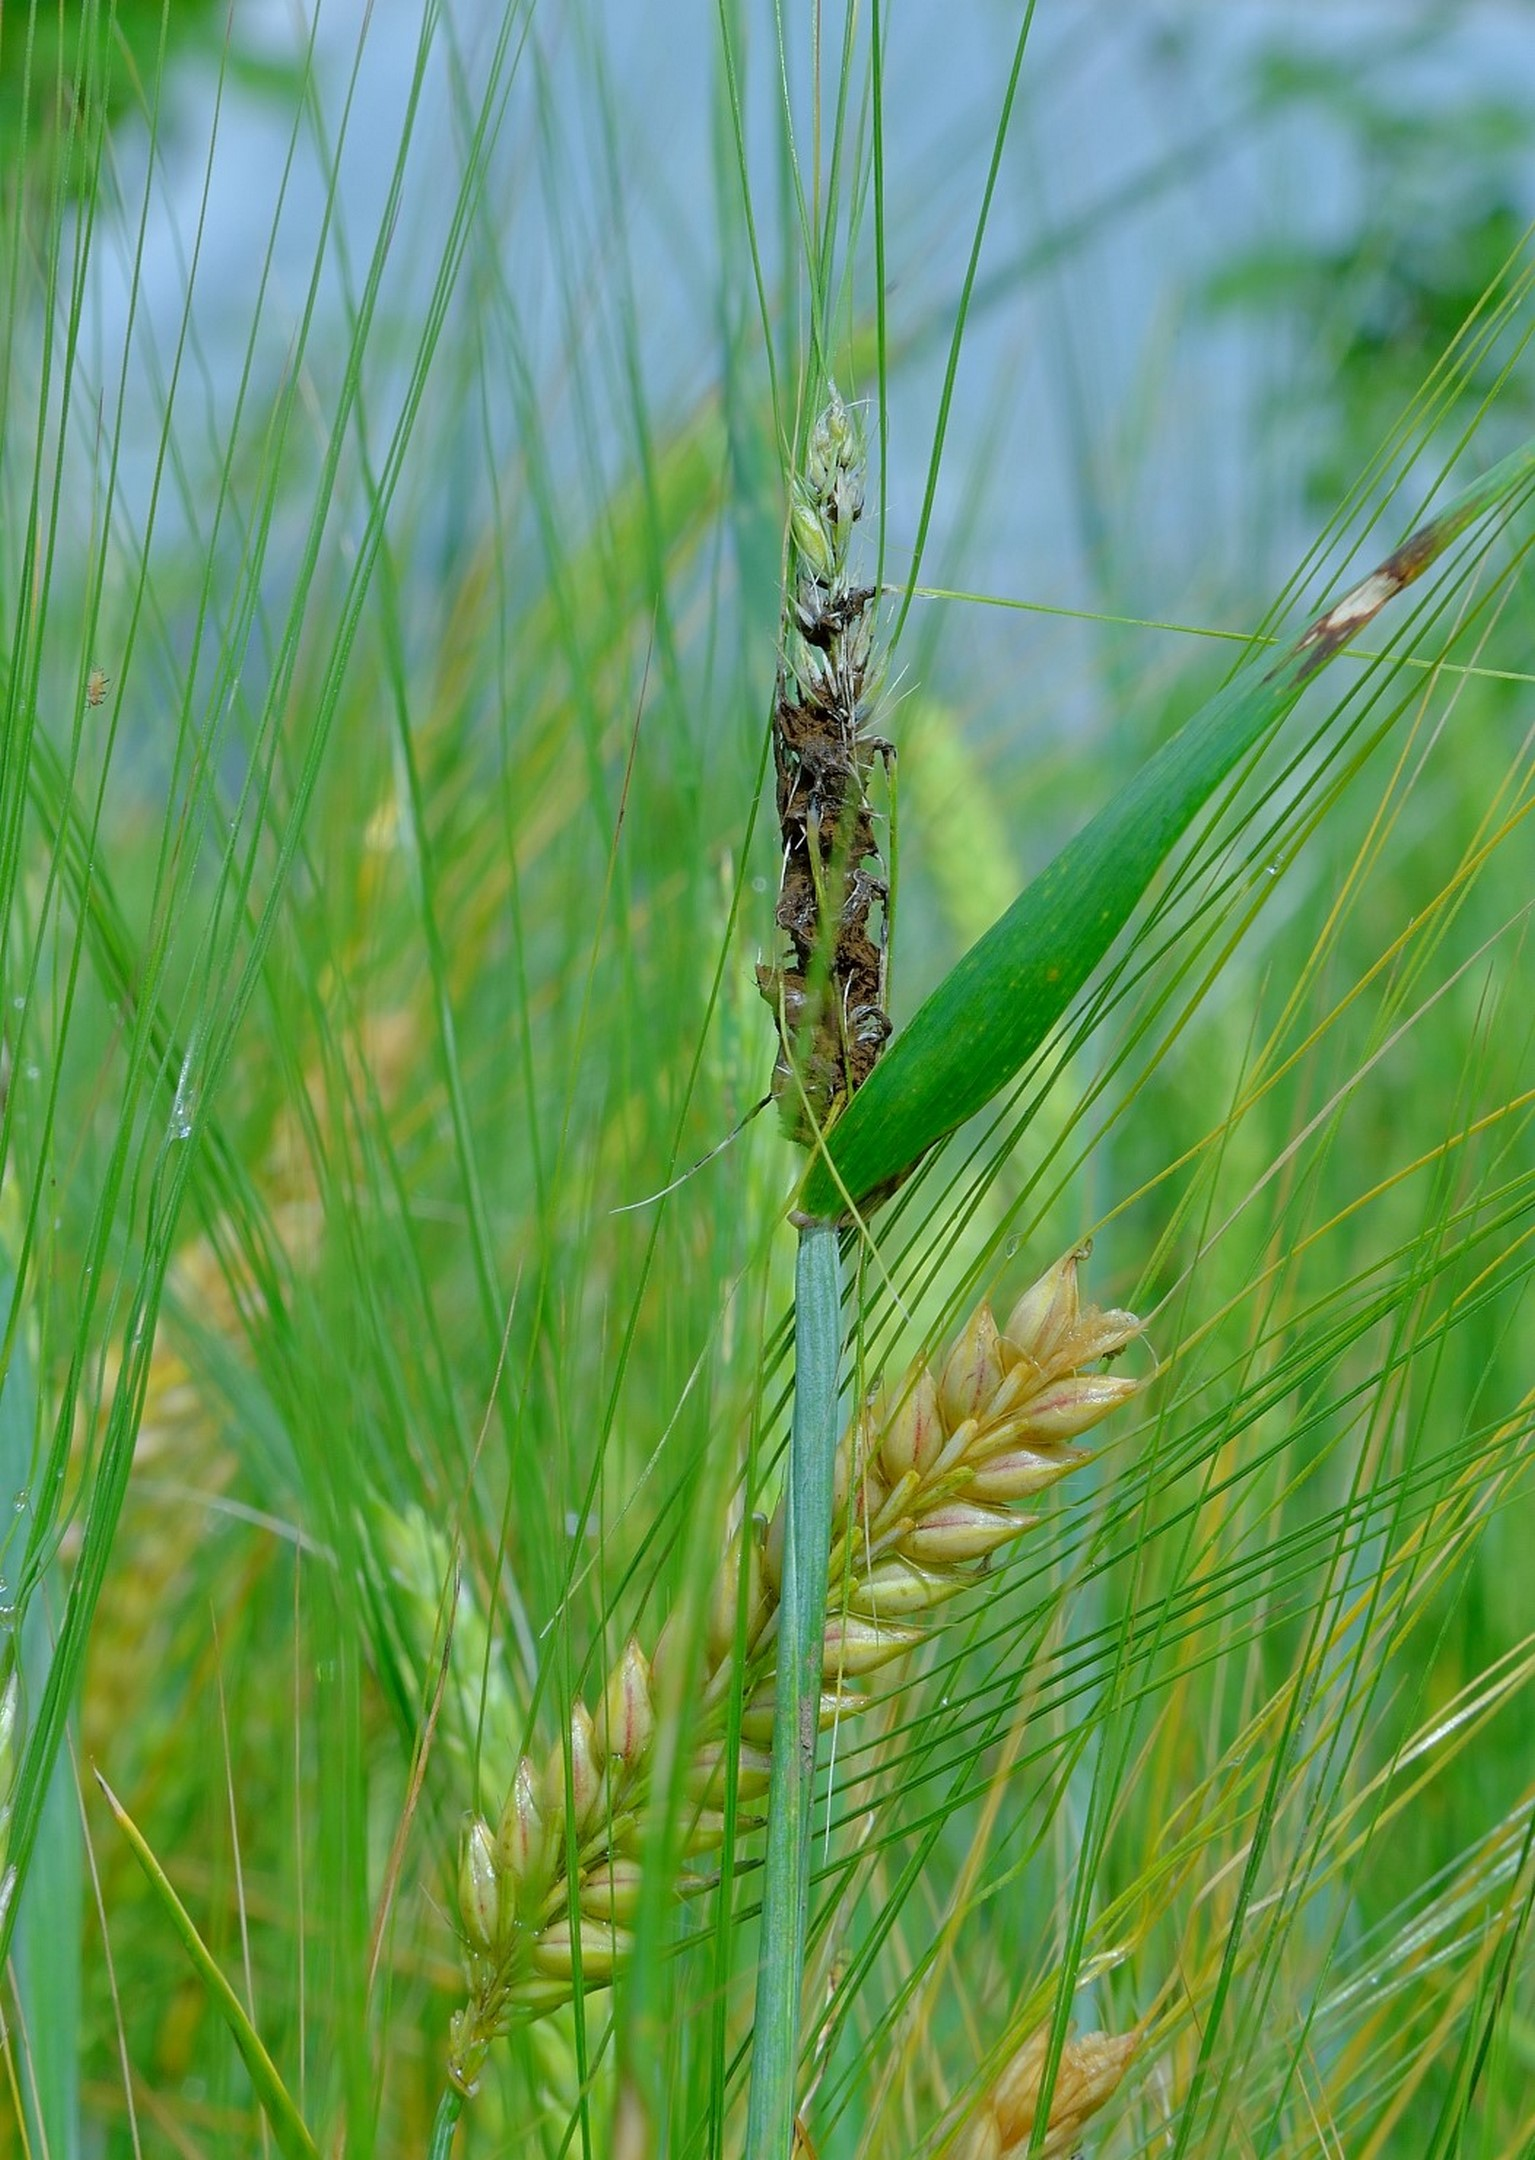Wheat Loose Smut: (669, 587, 935, 1173)
